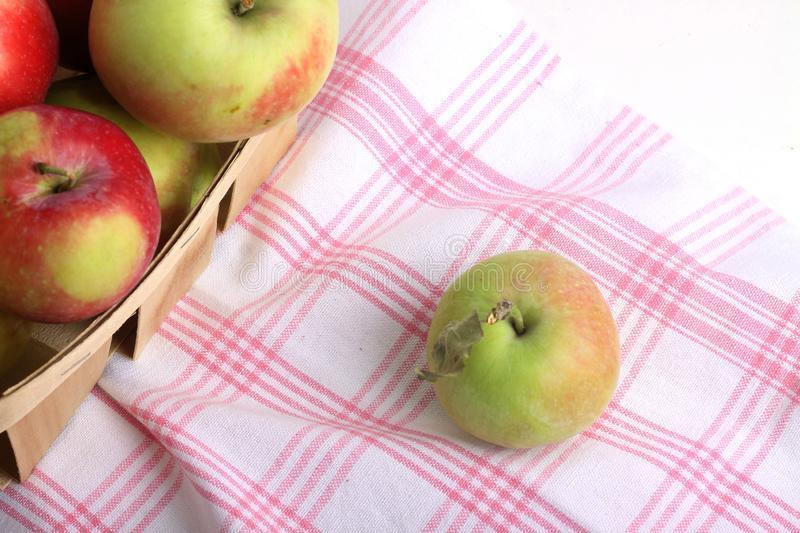apple: (419, 243, 620, 450), (1, 98, 172, 326), (86, 1, 343, 141)
